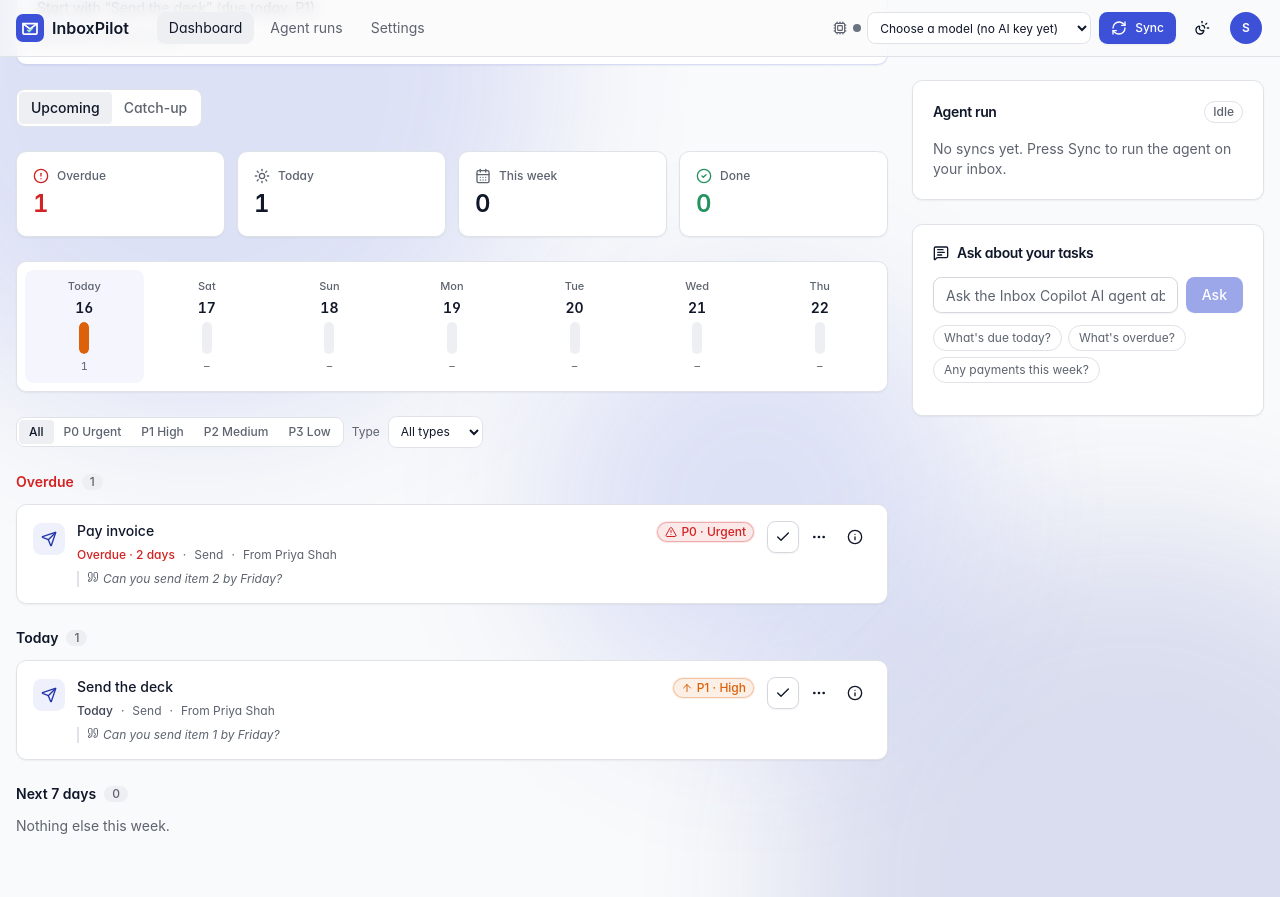
Test: dashboard › loads tasks, briefing and KPIs; marking done is instant, and Undo reopens
(page scrolled)
Check: the list item "Send the deck" is shown, box [16,660,888,760]
Check: the text with test id "kpi-overdue" reads "1", box [33,189,48,218]
Click the button named "Mark \"Send the deck\" as done".
click(783, 693)  # box [767,677,799,709]
(page scrolled)
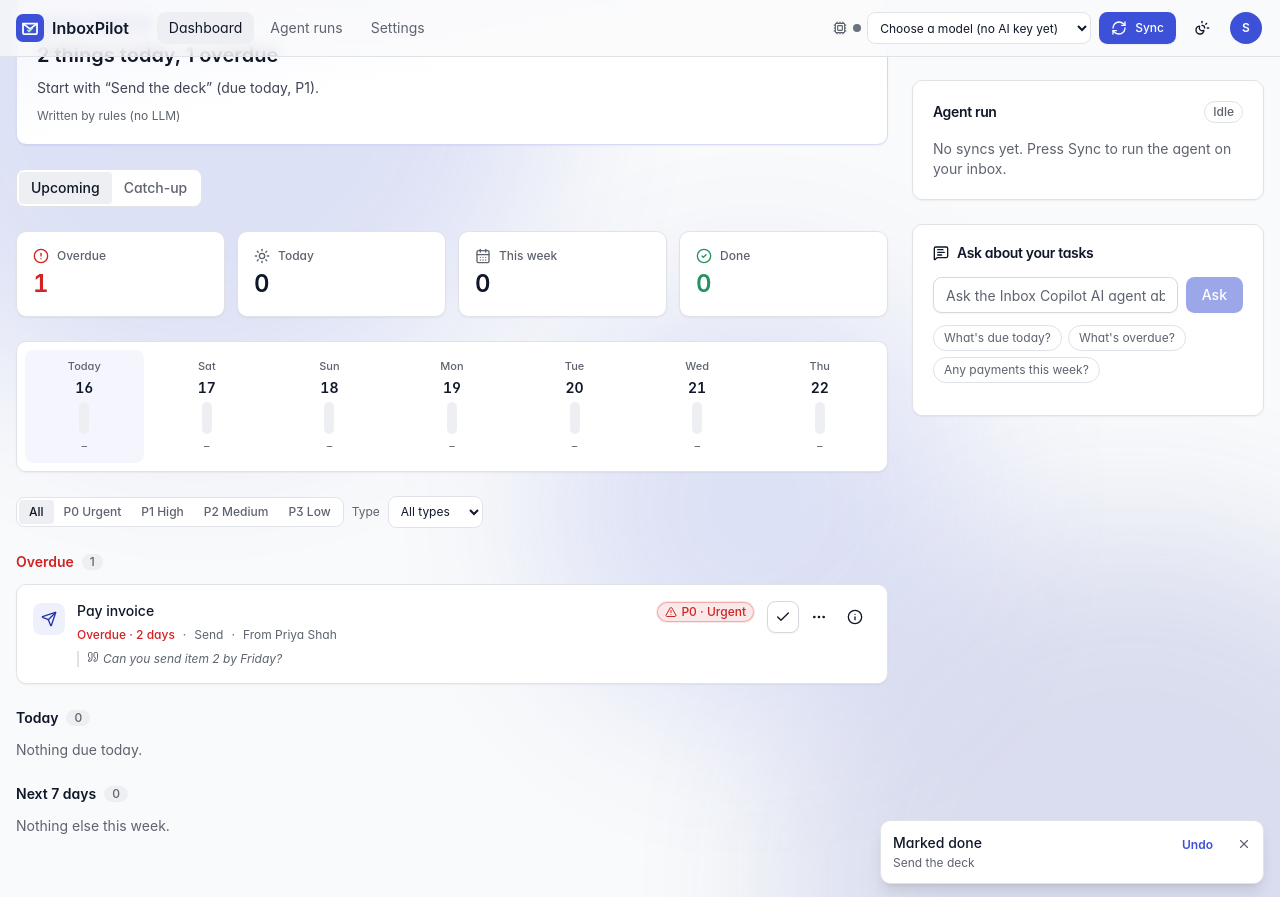
Click the button "Undo".
click(1198, 845)  # box [1174,833,1221,857]
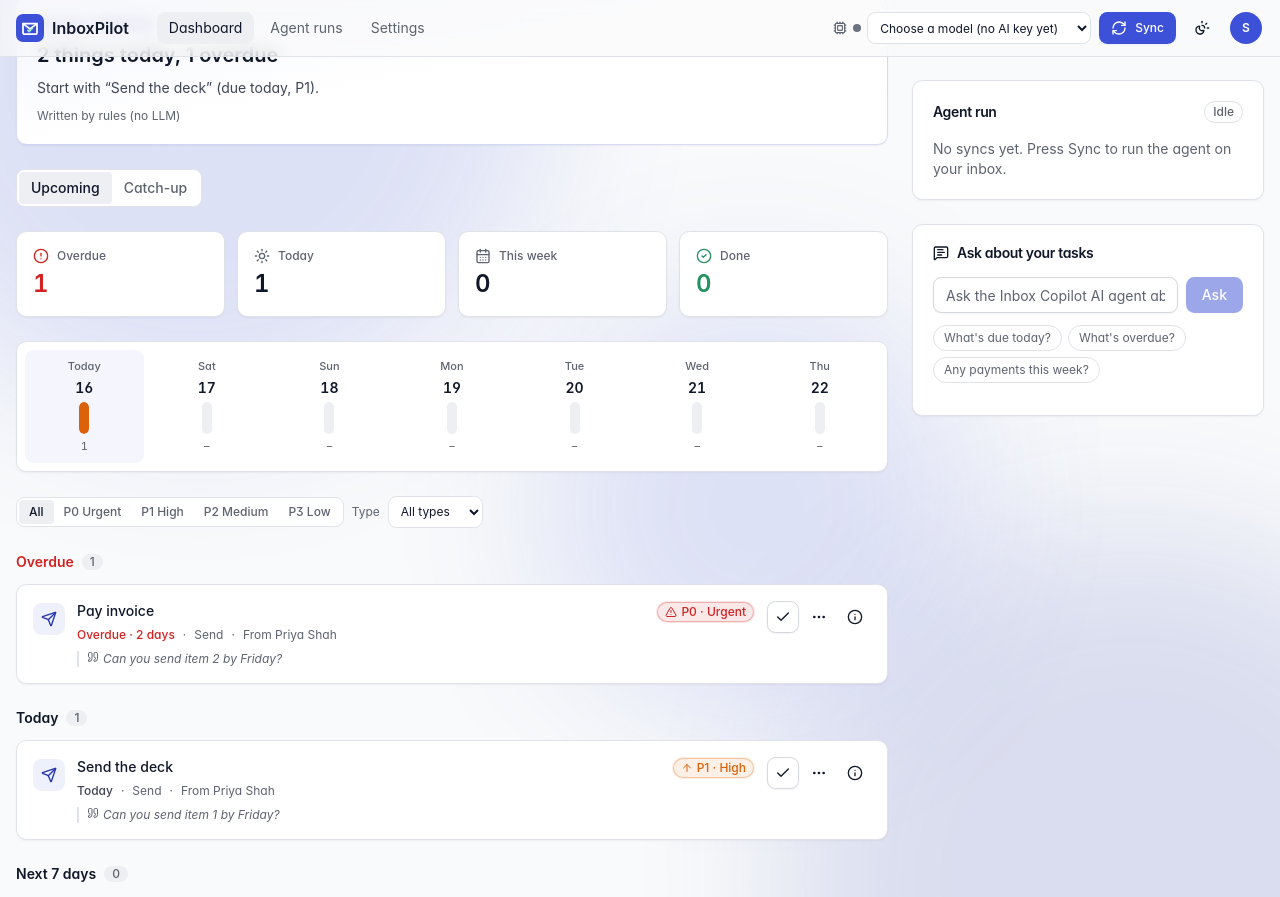
Check: the list item "Send the deck" is shown, box [16,740,888,840]
